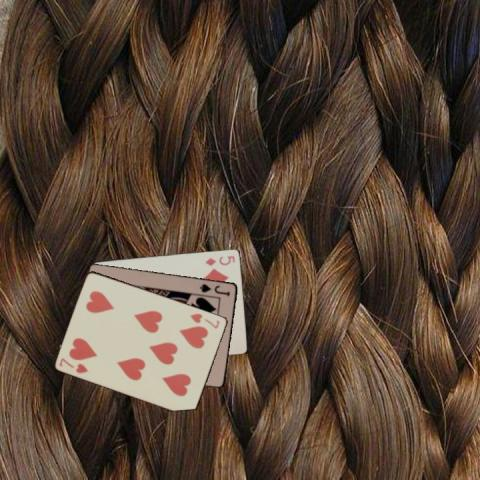5d: (202, 253, 236, 266)
7h: (188, 310, 222, 330), (57, 354, 90, 374)
Js: (197, 281, 231, 297)
